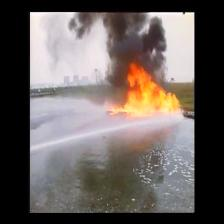fire: (119, 65, 184, 116)
smoke: (104, 14, 166, 64), (74, 12, 91, 35)
